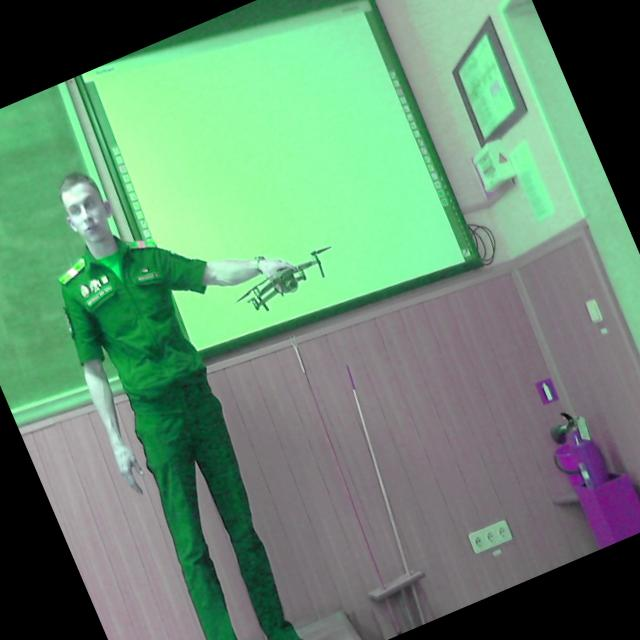drone: (220, 227, 352, 336)
